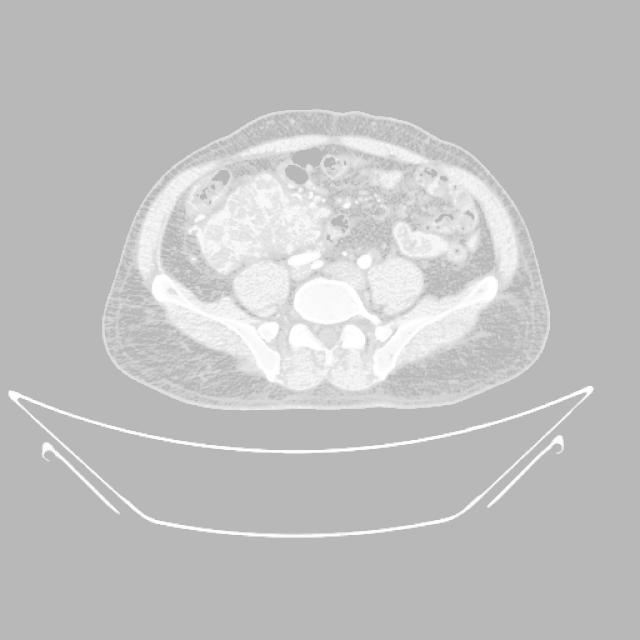TUMOR: (95, 118, 572, 313)
